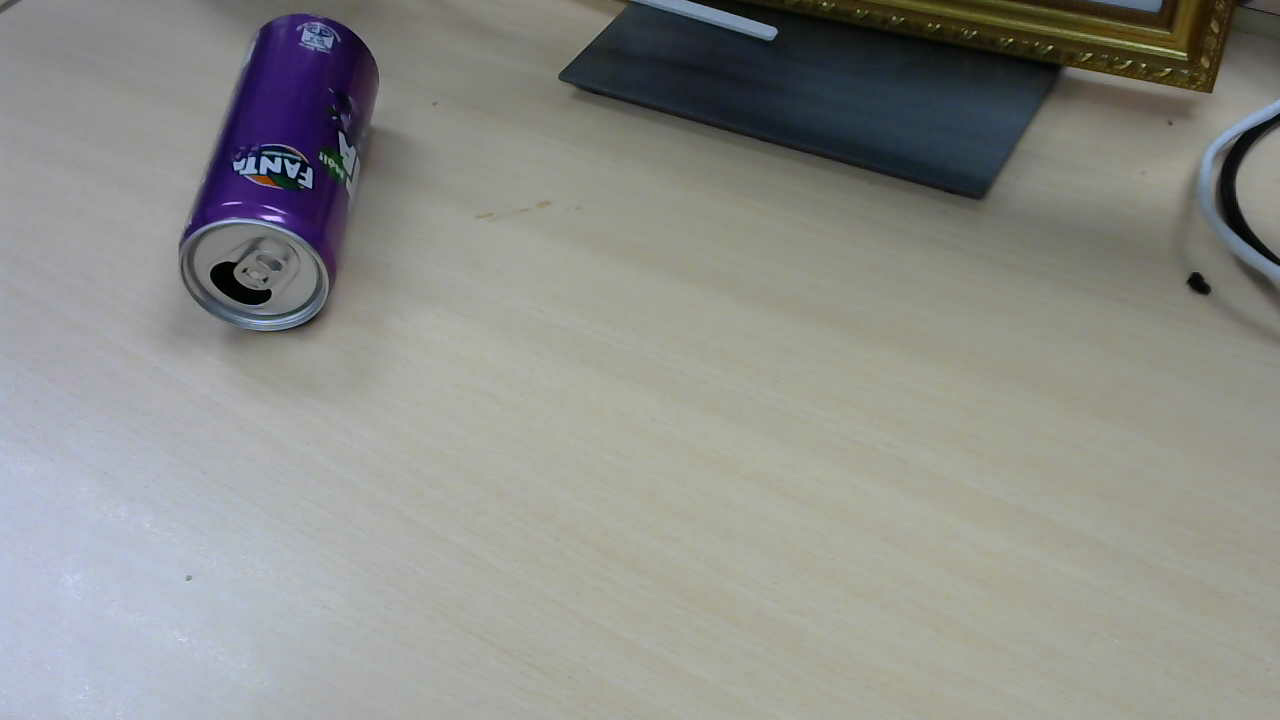Fanta: (180, 17, 387, 337)
